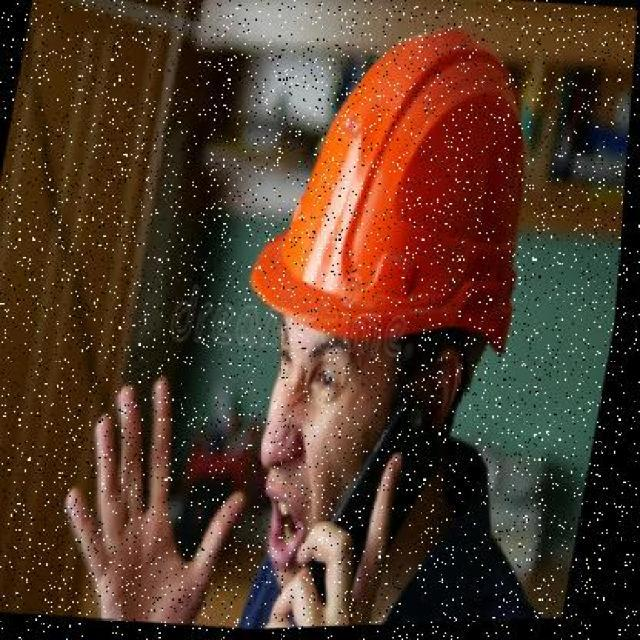helmet: (243, 0, 578, 367)
